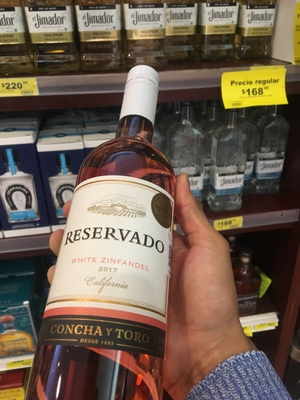reservado white zinfandel: (41, 61, 175, 400)
